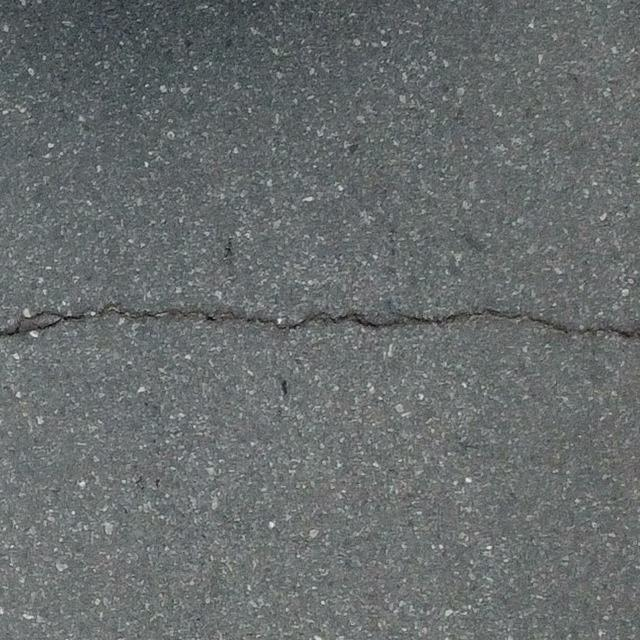TransverseCrack: (1, 306, 640, 340)
